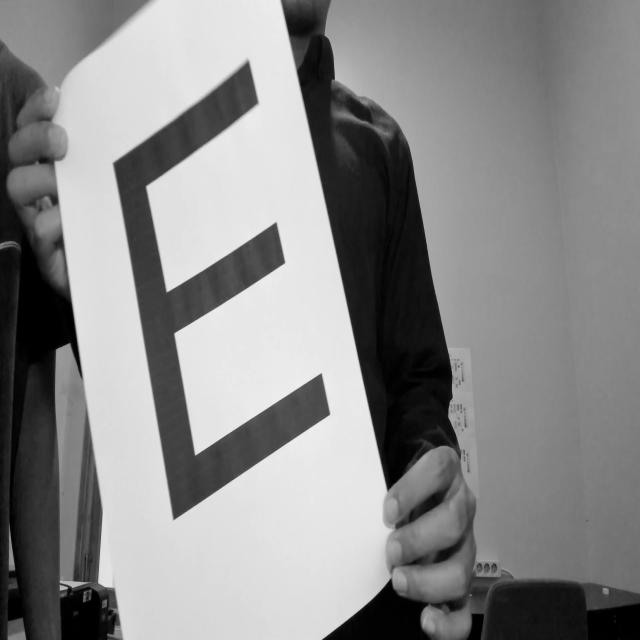e: (100, 30, 354, 555)
